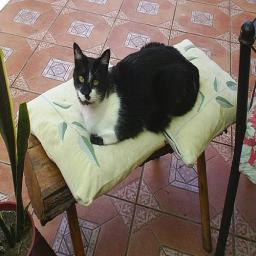catnose: (83, 90, 91, 100)
